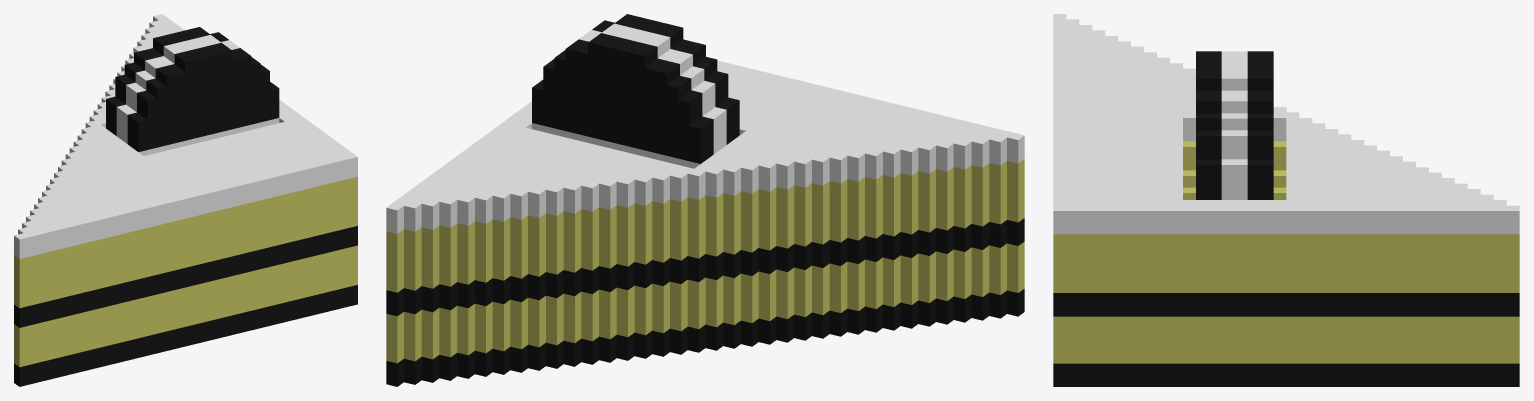
The model's file is oreo cheesecake.obj.
3 renders of one model, left to right at view 1: azimuth 30°, elevation 25°; view 2: azimuth 150°, elevation 25°; view 3: azimuth 270°, elevation 25°, orthographic. The views are drawn at different scales.
Visible parts, largest first — view 1: oreo cheesecake; view 2: oreo cheesecake; view 3: oreo cheesecake.
Part boxes in pixels (bbox=[...]): oreo cheesecake: bbox=[14, 14, 357, 386]; oreo cheesecake: bbox=[386, 14, 1024, 386]; oreo cheesecake: bbox=[1053, 14, 1519, 386].
Size of the model in its own units: 36 by 23 by 36.
1 material, 1 textured.
